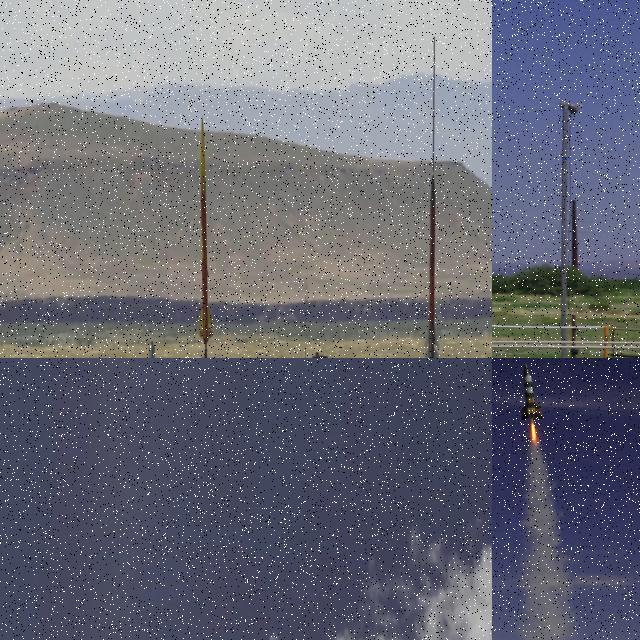Rocket: (197, 118, 215, 344), (424, 175, 439, 358), (521, 363, 544, 421)
